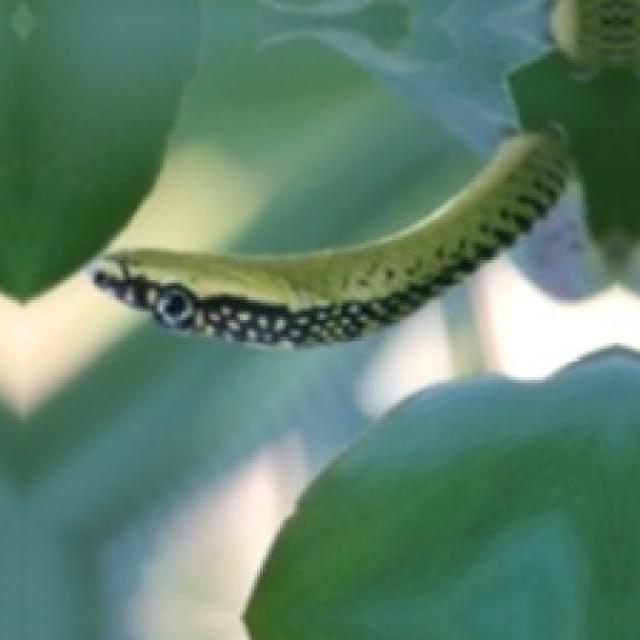paradise tree snake: (94, 134, 566, 343)
